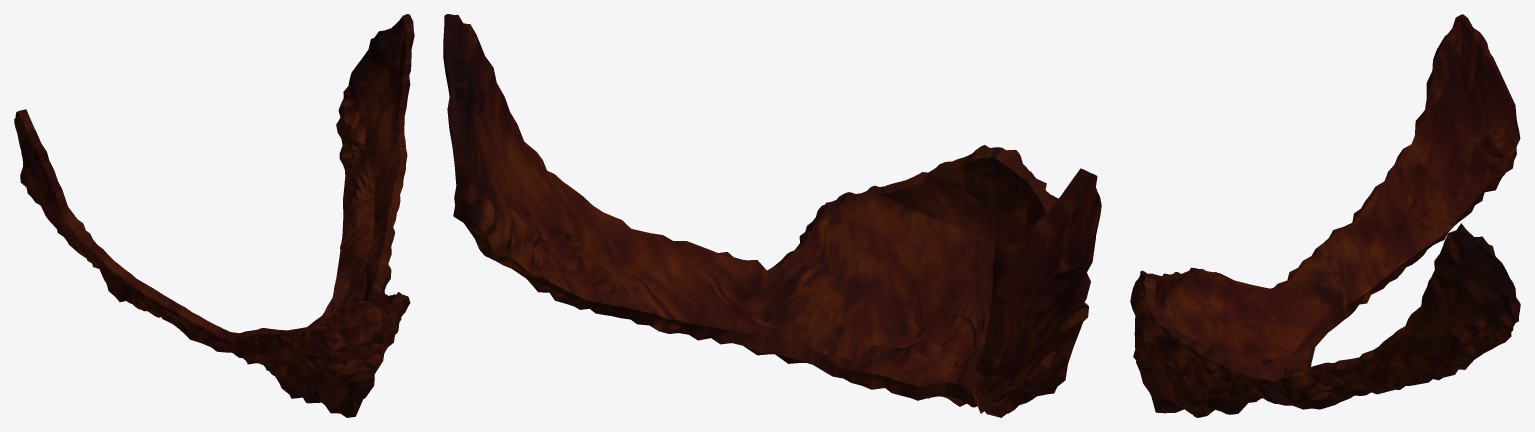
Rendered from mhw_culturalibre_faun_beard.glb.
3 renders of one model, left to right at view 1: azimuth 30°, elevation 25°; view 2: azimuth 150°, elevation 25°; view 3: azimuth 270°, elevation 25°, orthographic. The views are drawn at different scales.
Parts seen in each view (by area): view 1: mhw_culturalibre_faun_beard; view 2: mhw_culturalibre_faun_beard; view 3: mhw_culturalibre_faun_beard.
Part boxes in pixels (box(x1,y1,x2,y2)): mhw_culturalibre_faun_beard: box(14, 14, 414, 417); mhw_culturalibre_faun_beard: box(443, 14, 1101, 417); mhw_culturalibre_faun_beard: box(1130, 14, 1520, 417).
Bounding box in the file's own units: 0.1431 × 0.0906 × 0.1092.
Materials: 1 (1 with a texture image).
